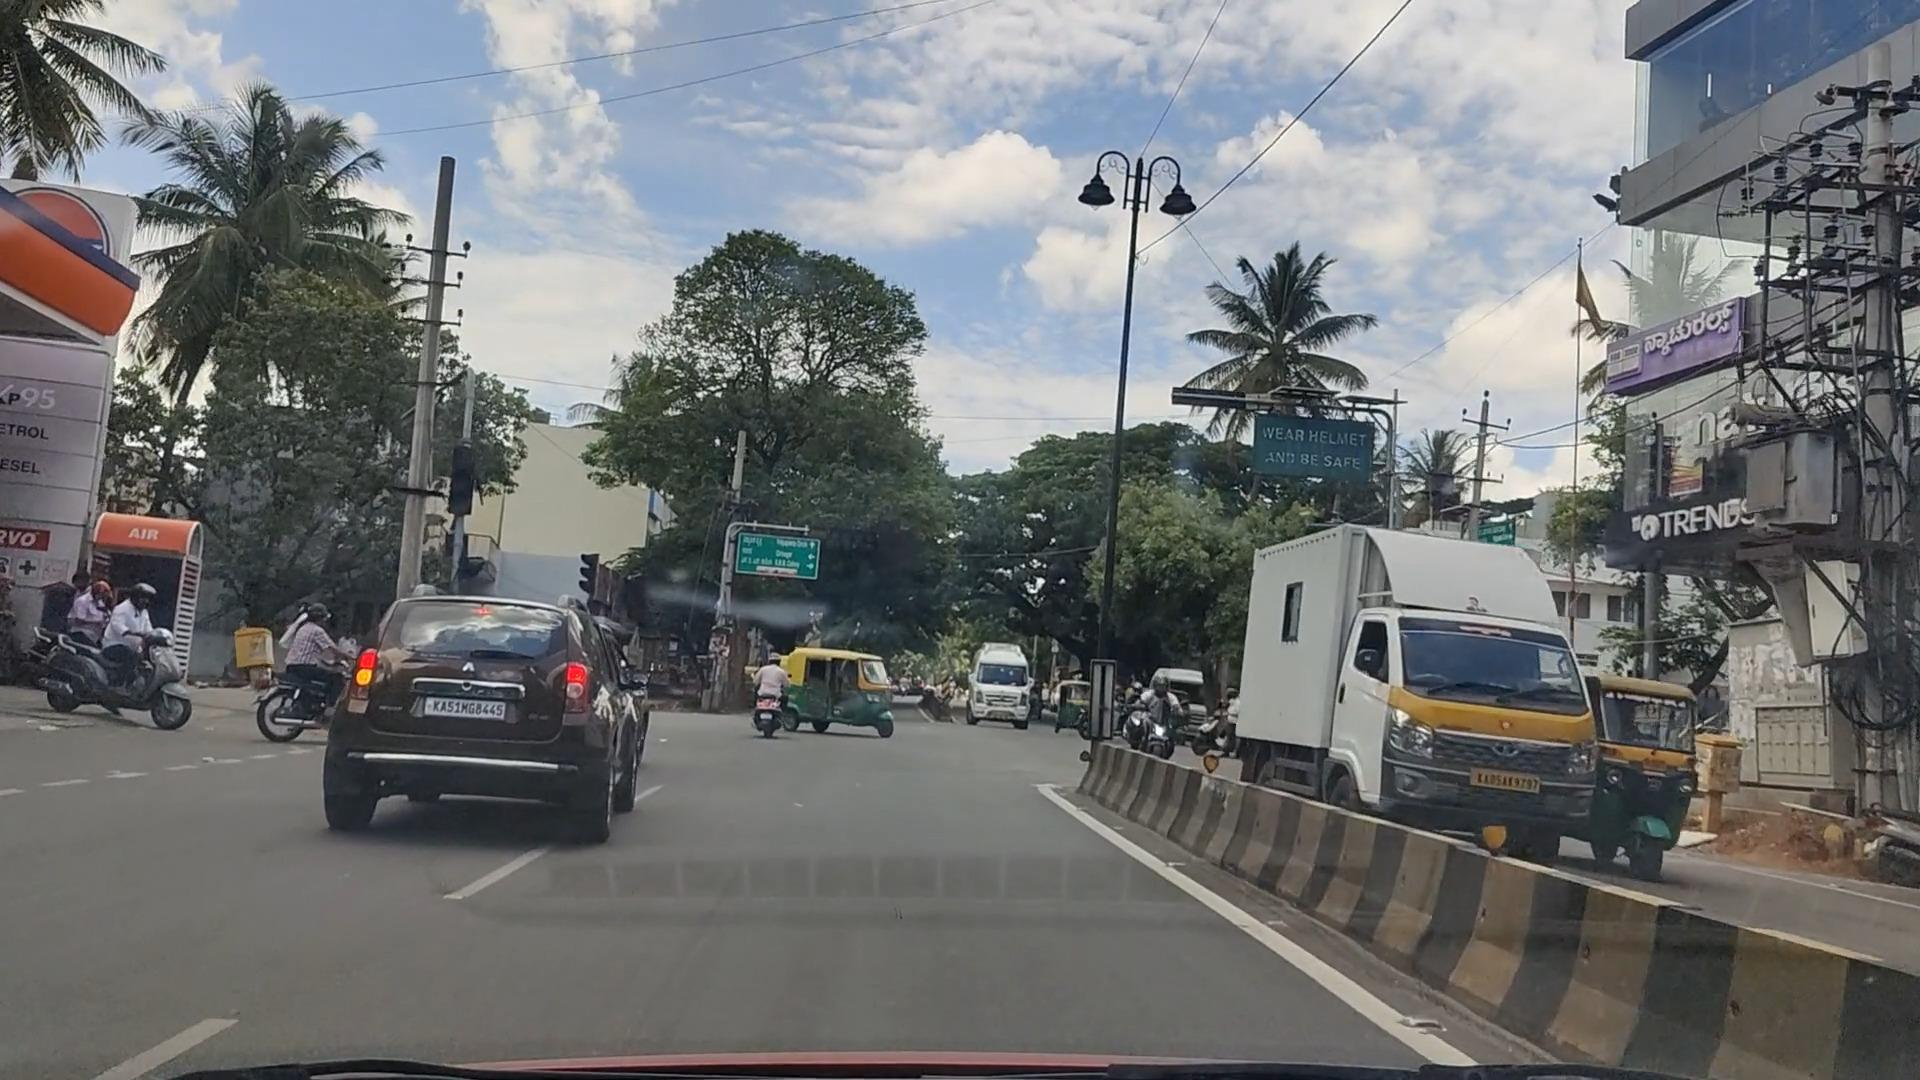LMV: (335, 587, 659, 858)
